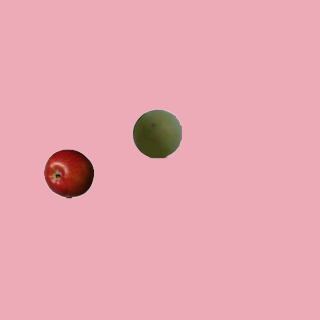Apple Braeburn: (43, 148, 93, 198)
Grape White 4: (131, 108, 181, 158)
